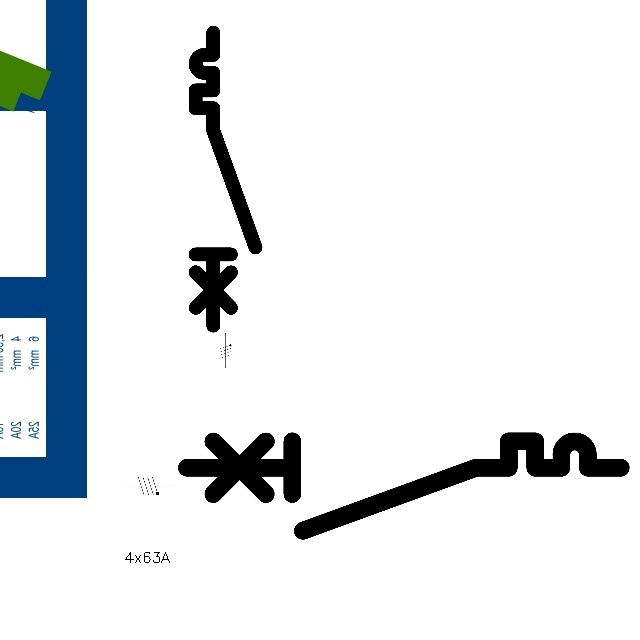interruptor_termomagnetico: (175, 430, 631, 541), (188, 25, 263, 333)
